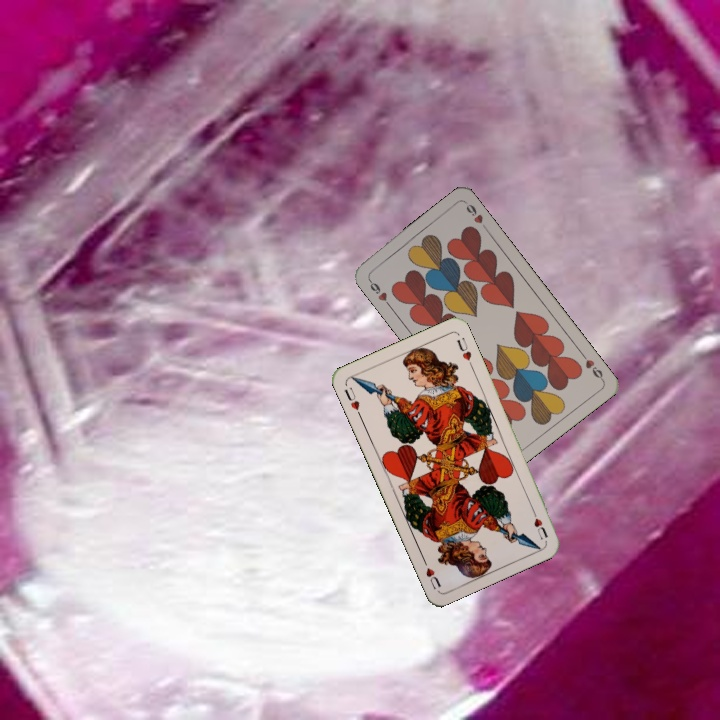H9: (577, 349, 606, 383), (364, 275, 393, 309)
HU: (527, 504, 551, 542), (340, 383, 364, 419)
